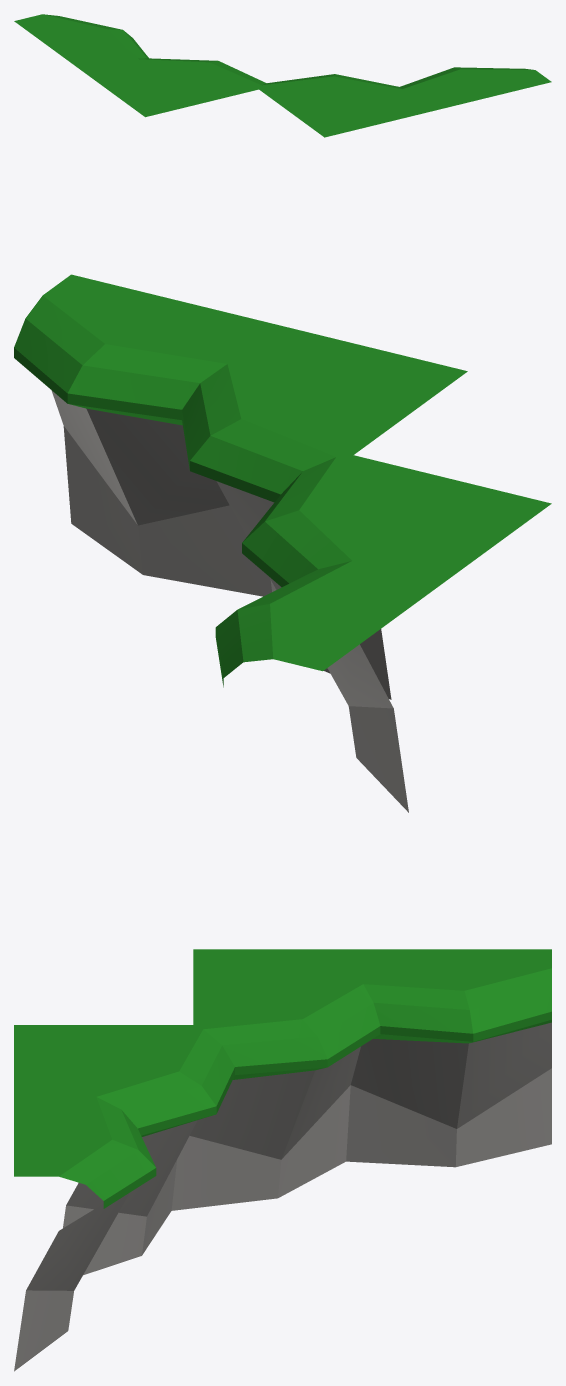
Rendered from Cliff_Terrain_Corner_Inner_3x3_Top.glb.
The picture shows the model from 3 angles, top to bottom: view 1: azimuth 30°, elevation 25°; view 2: azimuth 150°, elevation 25°; view 3: azimuth 270°, elevation 25°; orthographic projection. The views are drawn at different scales.
Parts seen in each view (by area): view 1: Cliff_Terrain_Corner_Inner_3x3_Top; view 2: Cliff_Terrain_Corner_Inner_3x3_Top; view 3: Cliff_Terrain_Corner_Inner_3x3_Top.
Part boxes in pixels (x1=…): Cliff_Terrain_Corner_Inner_3x3_Top: x1=14, y1=14, x2=551, y2=137; Cliff_Terrain_Corner_Inner_3x3_Top: x1=14, y1=274, x2=551, y2=812; Cliff_Terrain_Corner_Inner_3x3_Top: x1=14, y1=949, x2=551, y2=1371.
Size of the model in its own units: 3 by 1.2 by 3.
